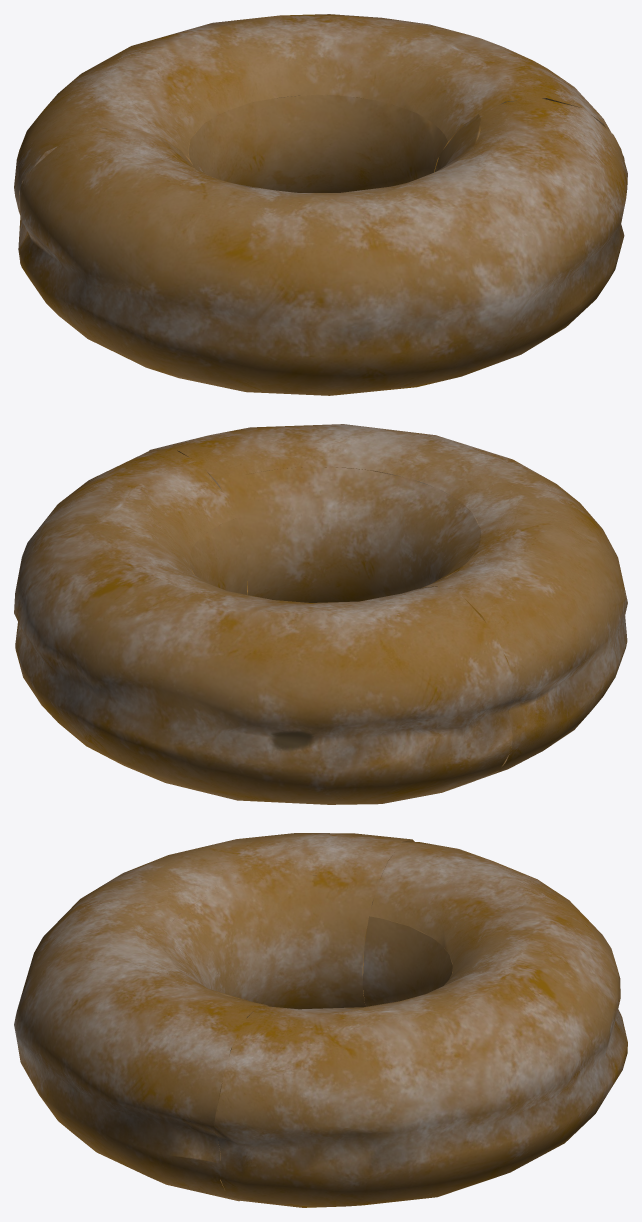
File: donut10.glb
3 views of the same model, one above another, from view 1: azimuth 30°, elevation 25°; view 2: azimuth 150°, elevation 25°; view 3: azimuth 270°, elevation 25° (orthographic).
Parts seen in each view (by area): view 1: Donut10; view 2: Donut10; view 3: Donut10.
Part boxes in pixels (box(x1,y1,x2,y2)): Donut10: box(14, 14, 627, 395); Donut10: box(14, 424, 627, 804); Donut10: box(14, 833, 627, 1207).
Bounding box in the file's own units: 1.98 × 0.661 × 2.
1 material, 1 textured.
